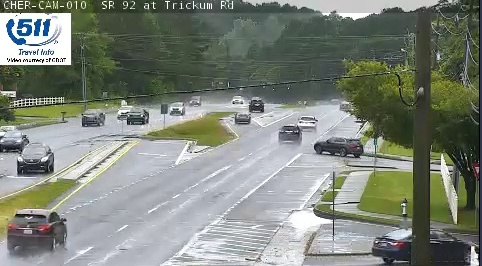car: (7, 209, 67, 246), (279, 125, 301, 142), (296, 116, 316, 130), (234, 112, 251, 123)
